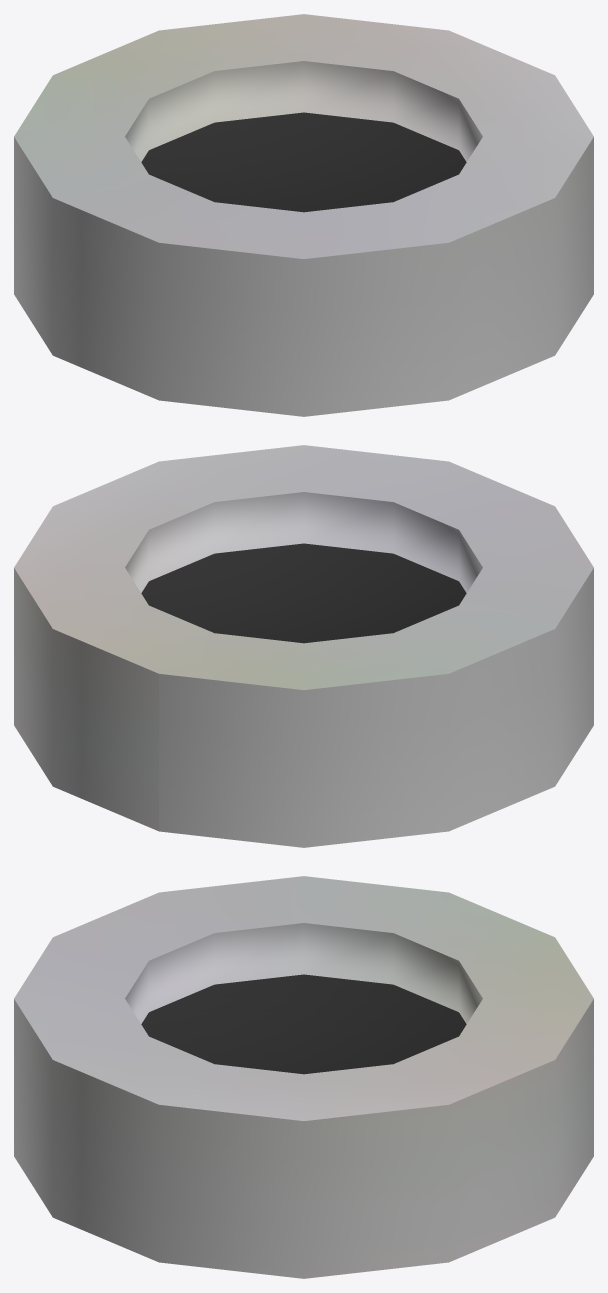
The model's file is BonFirePit.glb.
3 renders of one model, top to bottom at view 1: azimuth 30°, elevation 25°; view 2: azimuth 150°, elevation 25°; view 3: azimuth 270°, elevation 25°, orthographic.
Visible parts, largest first — view 1: BonFirePit; view 2: BonFirePit; view 3: BonFirePit.
Boxes of the visible parts, <box> form: BonFirePit: <box>14,14,593,416</box>; BonFirePit: <box>14,445,593,847</box>; BonFirePit: <box>14,876,593,1278</box>.
Size of the model in its own units: 2 by 0.6 by 2.
Materials: 1 (1 with a texture image).
